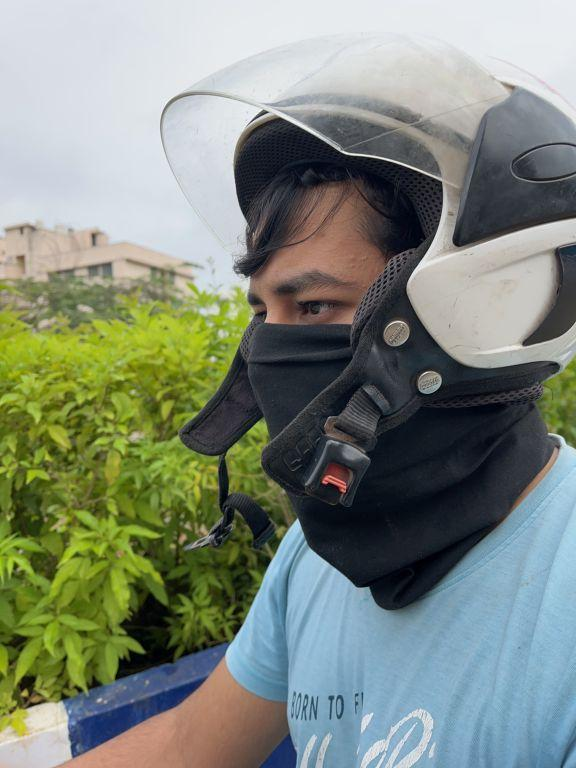helmet: (144, 0, 576, 477)
